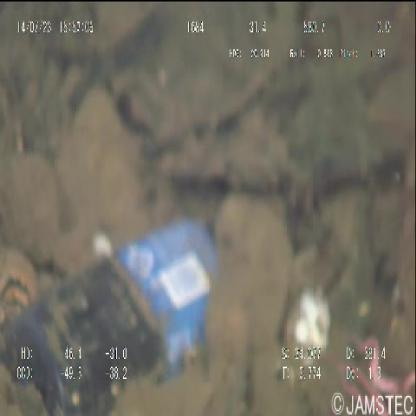Rác: (0, 218, 222, 415)
